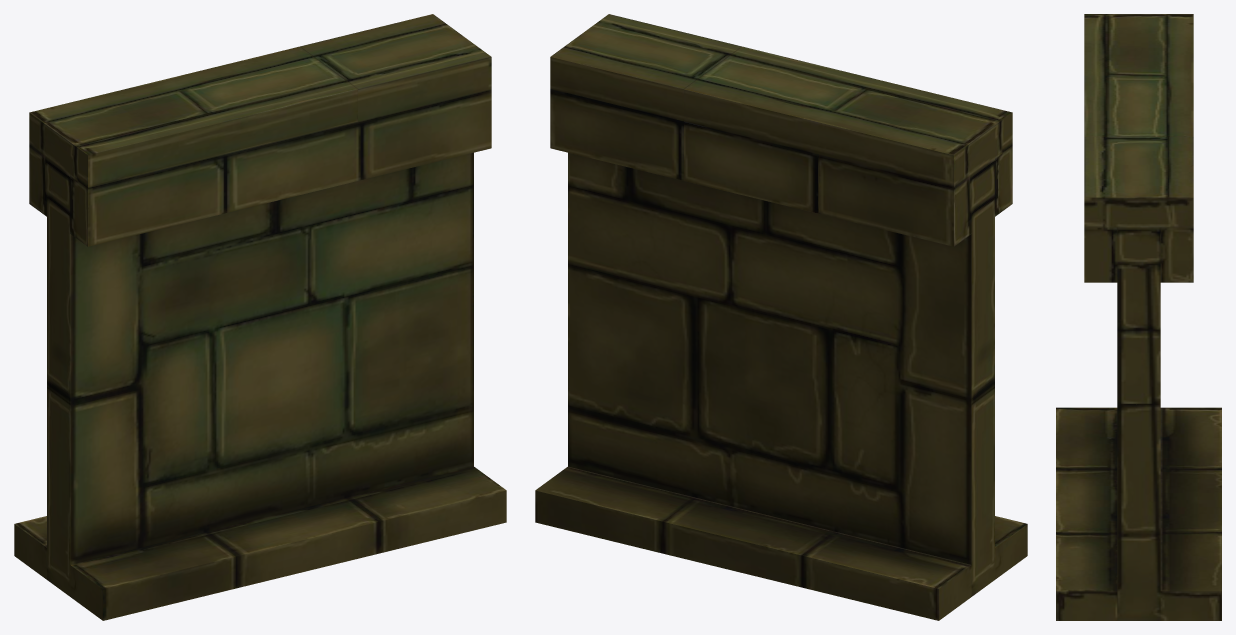
The model's file is Wall.glb.
3 views of the same model, side by side, from view 1: azimuth 30°, elevation 25°; view 2: azimuth 150°, elevation 25°; view 3: azimuth 270°, elevation 25° (orthographic). The views are drawn at different scales.
Parts seen in each view (by area): view 1: Cube.049_26; view 2: Cube.049_26; view 3: Cube.049_26.
Boxes of the visible parts, x1,y1,x2,y2 form: Cube.049_26: (14,14,506,620); Cube.049_26: (535,14,1027,620); Cube.049_26: (1056,14,1221,620).
Size of the model in its own units: 3 by 3.23 by 1.14.
1 material, 1 textured.
